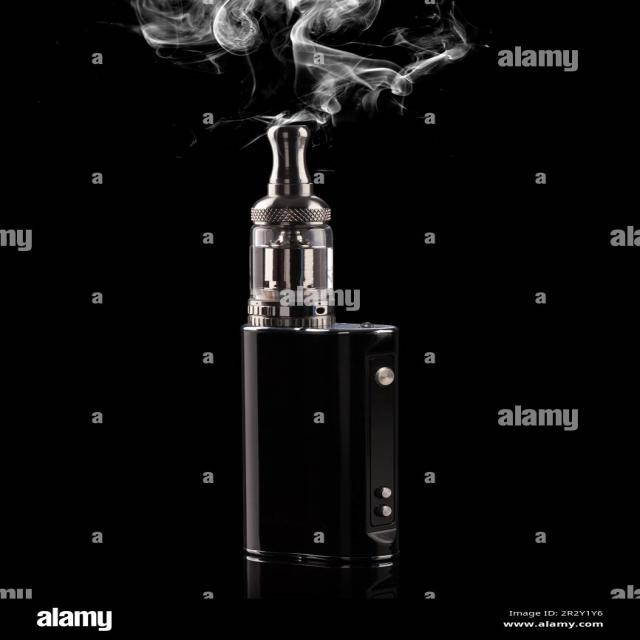Cigarette: (241, 122, 396, 570)
